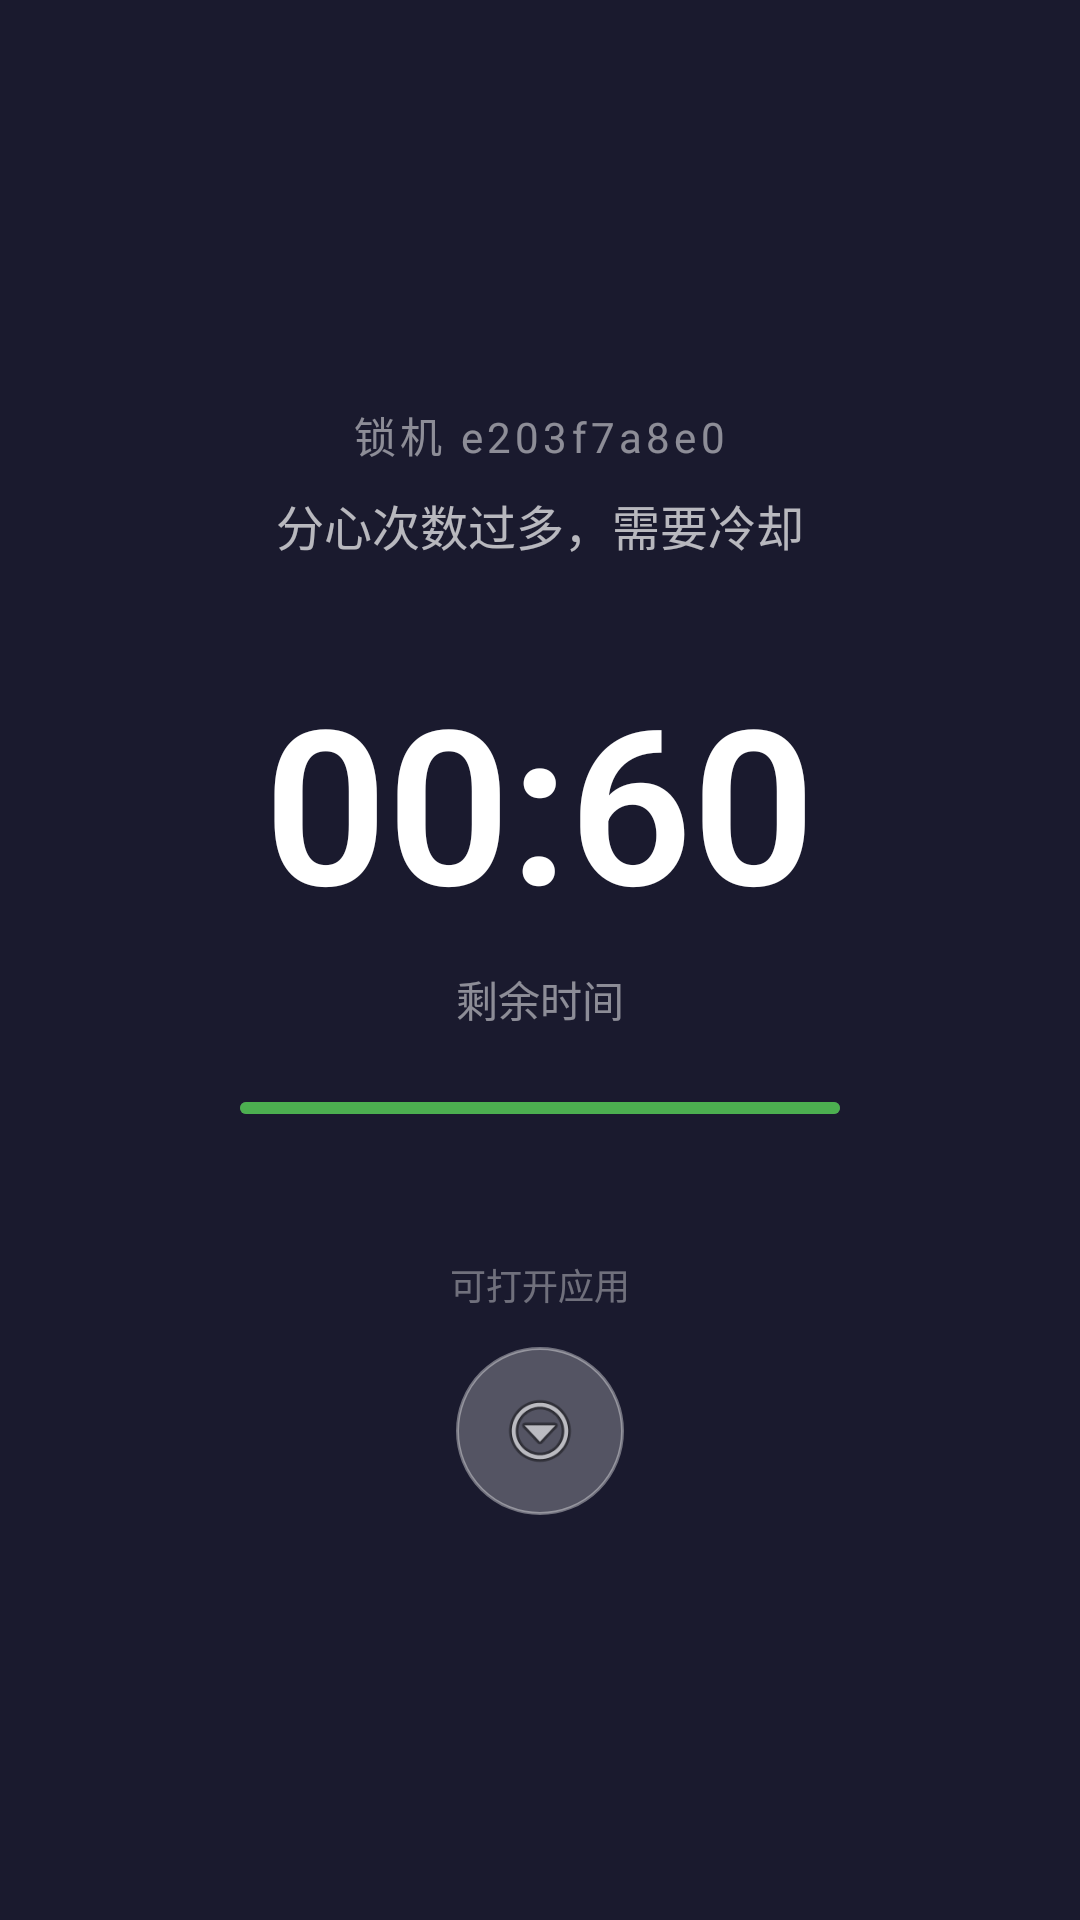

Named icons in this screenshot (1080 × 1920) and their bounding boxes, {"left": x1, "top": y1, "right": x2, "bottom": y2}:
打开白名单: {"left": 456, "top": 1347, "right": 624, "bottom": 1515}
